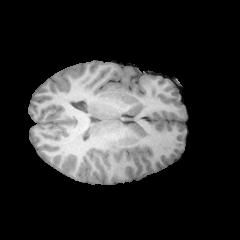glioma: (105, 141, 135, 171)
